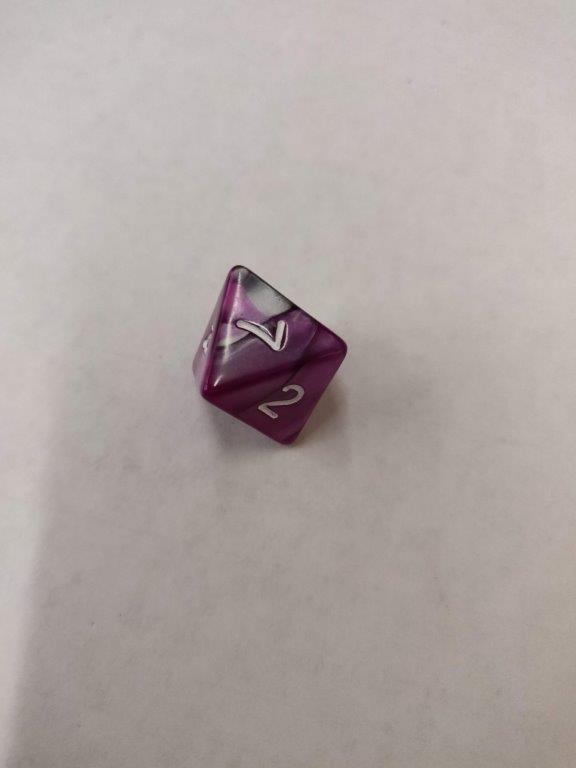d8-7: (191, 265, 348, 445)
